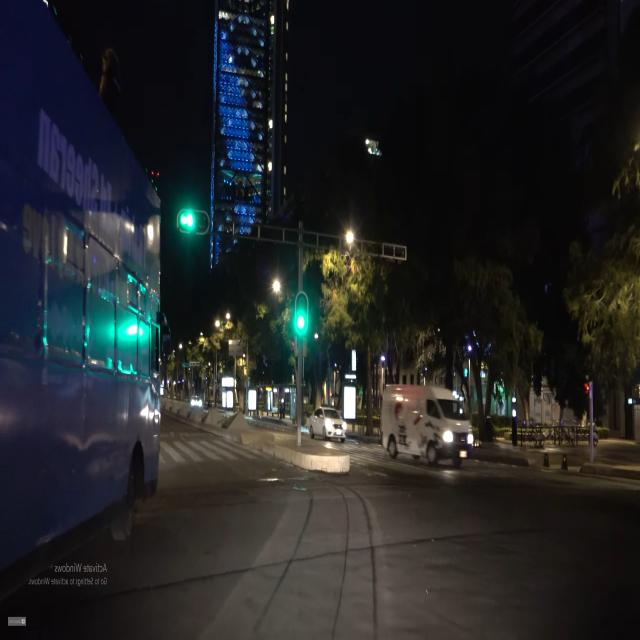headlights: (436, 421, 480, 454)
